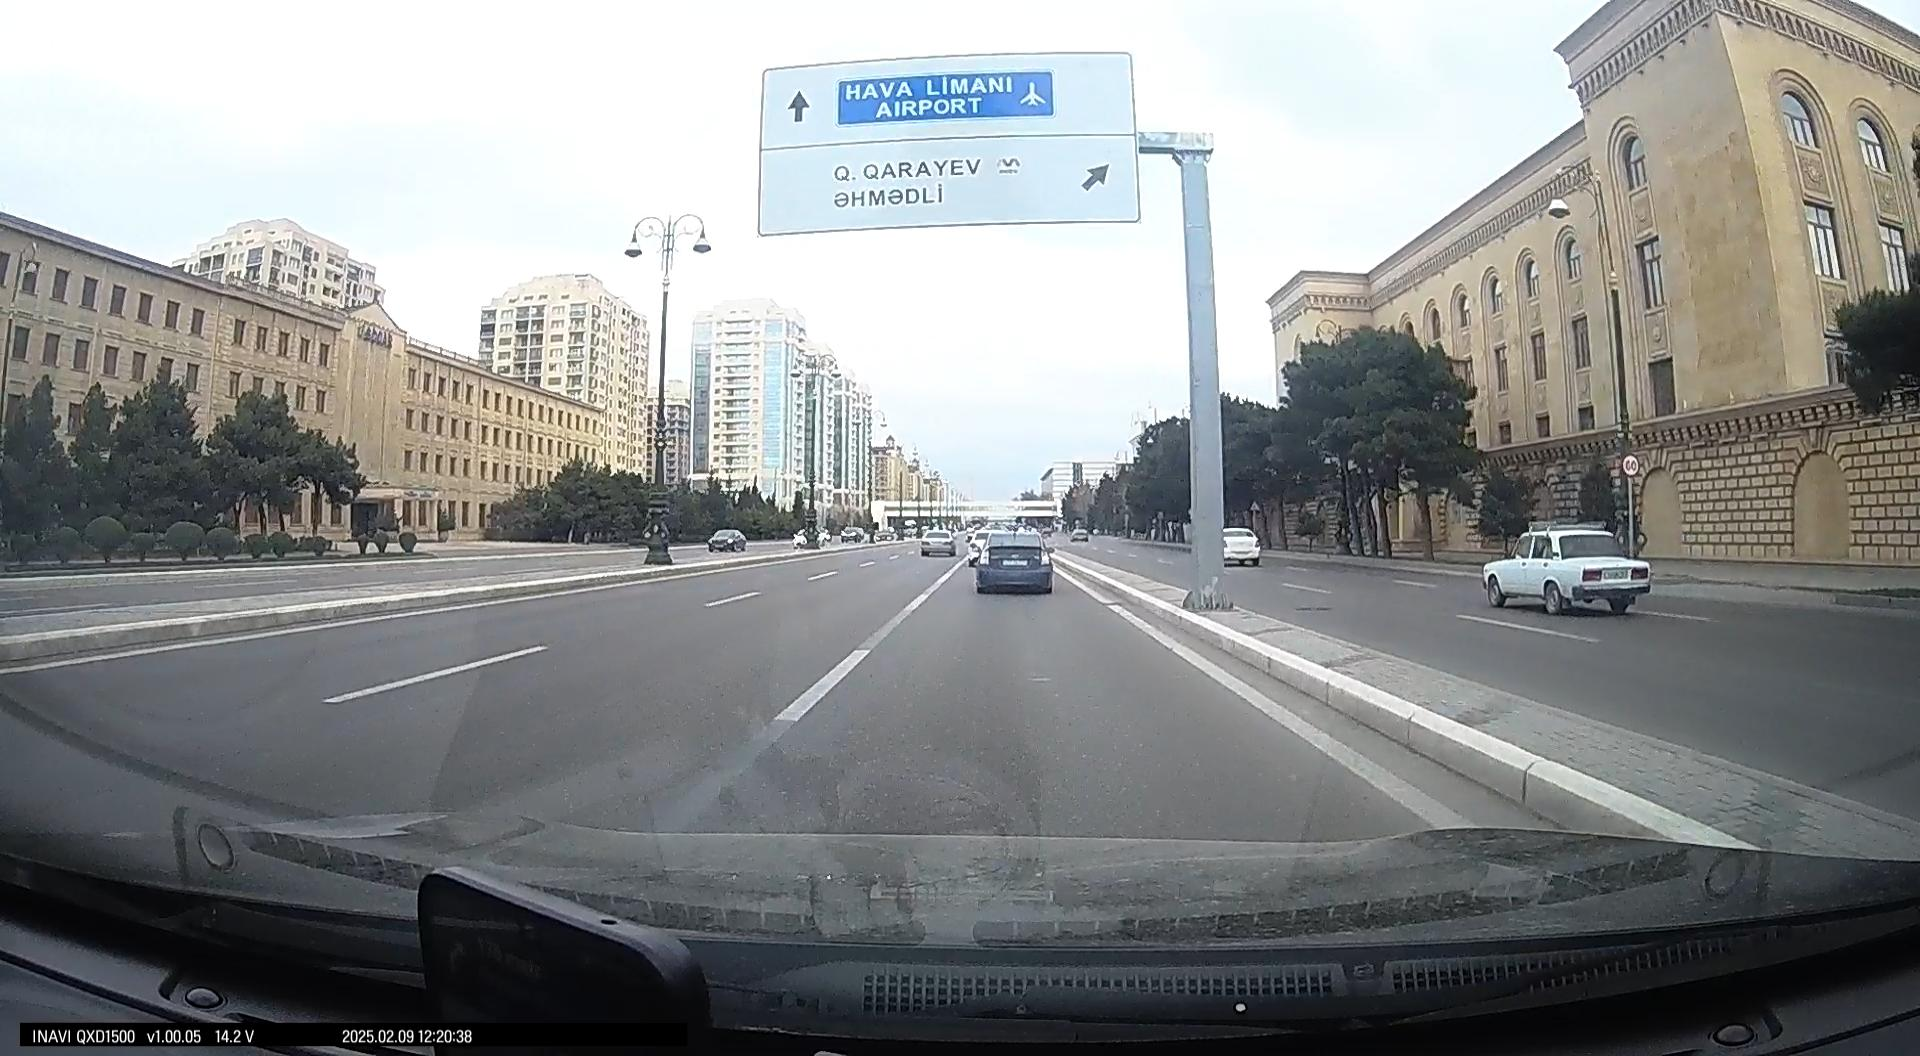banner: (758, 51, 1141, 237)
